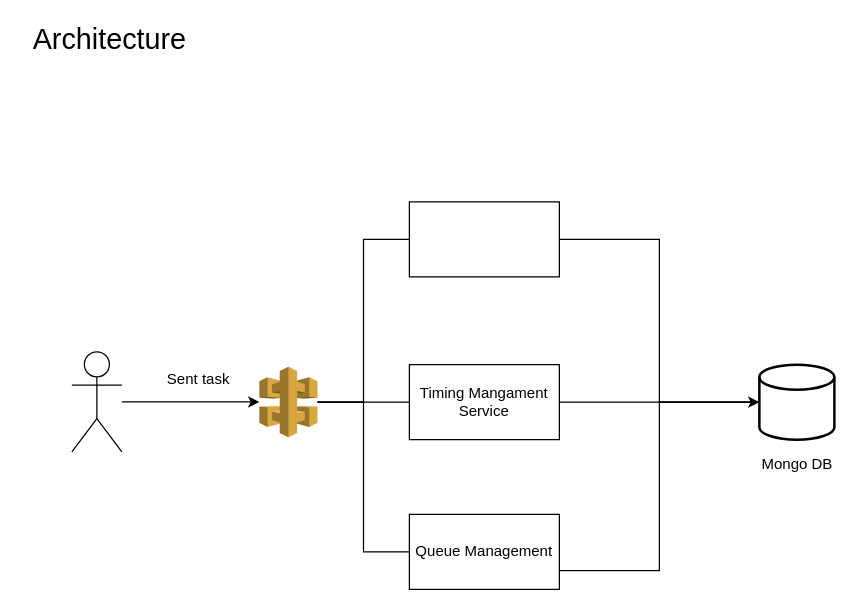
Some shapes in this 861 by 611 pixel diagram are drawn without their labels. The shapes that lost their labels are listed below. From the top down, each one's centre as x and y in pixels, then its label:
At (x=483, y=239): "Rating Service".
At (x=96, y=401): "Task Manager".
